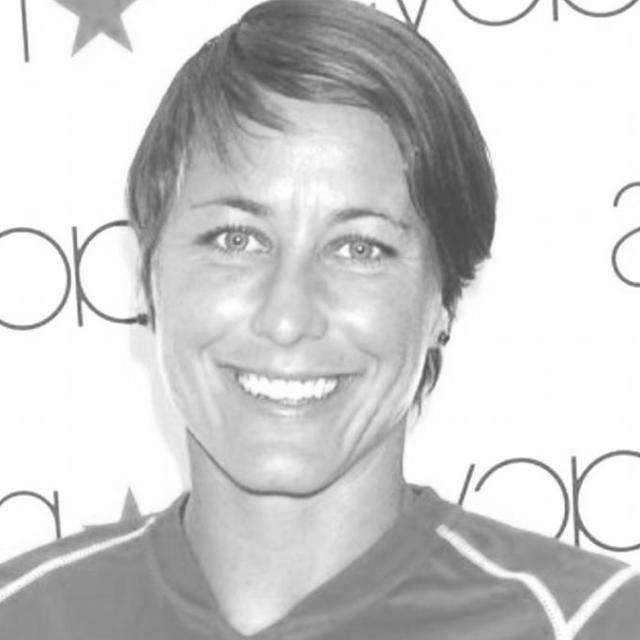real: (120, 86, 464, 502)
